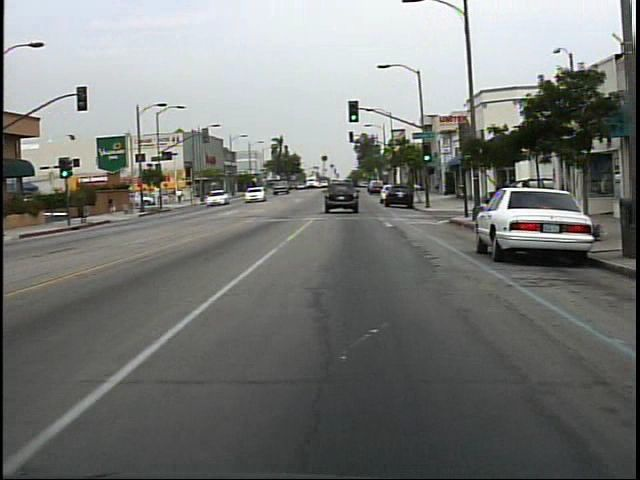person: (493, 174, 517, 228), (105, 191, 124, 220), (177, 187, 186, 206)
